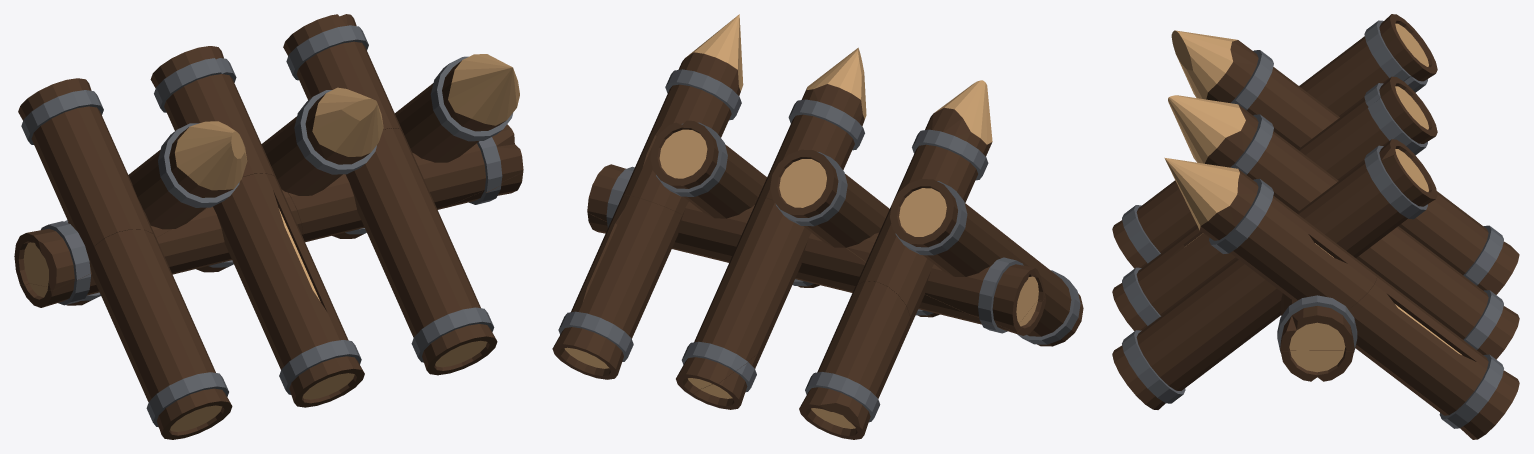
The model's file is Barricade crashed.fbx.
3 renders of one model, left to right at view 1: azimuth 30°, elevation 25°; view 2: azimuth 150°, elevation 25°; view 3: azimuth 270°, elevation 25°, orthographic. The views are drawn at different scales.
Visible parts, largest first — view 1: Barricade 1.007_cell.001, Barricade 1.006_cell.001, Barricade 1.003_cell.001, Barricade 1.003_cell, Barricade 1.002_cell.001, Barricade 1.004_cell, Barricade 1.005_cell.001, Barricade 1.001_cell.001, Barricade 1.006_cell, Barricade 1.007_cell, Barricade 1.001_cell.002, Barricade 1.001_cell (+1 smaller); view 2: Barricade 1.002_cell, Barricade 1.004_cell.002, Barricade 1.005_cell, Barricade 1.005_cell.001, Barricade 1.002_cell.001, Barricade 1.003_cell, Barricade 1.006_cell, Barricade 1.007_cell, Barricade 1.004_cell, Barricade 1.001_cell, Barricade 1.001_cell.001, Barricade 1.001_cell.002 (+2 smaller); view 3: Barricade 1.002_cell.001, Barricade 1.002_cell, Barricade 1.007_cell.001, Barricade 1.005_cell.001, Barricade 1.004_cell, Barricade 1.007_cell, Barricade 1.004_cell.002, Barricade 1.006_cell, Barricade 1.003_cell, Barricade 1.006_cell.001, Barricade 1.005_cell, Barricade 1.003_cell.001 (+2 smaller).
Part boxes in pixels (x1=…): Barricade 1.007_cell.001: x1=345, y1=128, x2=497, y2=375; Barricade 1.006_cell.001: x1=213, y1=173, x2=364, y2=407; Barricade 1.003_cell.001: x1=88, y1=229, x2=232, y2=439; Barricade 1.003_cell: x1=18, y1=78, x2=156, y2=254; Barricade 1.002_cell.001: x1=395, y1=54, x2=519, y2=162; Barricade 1.004_cell: x1=262, y1=87, x2=383, y2=195; Barricade 1.005_cell.001: x1=128, y1=121, x2=247, y2=229; Barricade 1.001_cell.001: x1=288, y1=124, x2=523, y2=242; Barricade 1.006_cell: x1=150, y1=46, x2=277, y2=179; Barricade 1.007_cell: x1=283, y1=14, x2=402, y2=131; Barricade 1.001_cell.002: x1=20, y1=190, x2=302, y2=307; Barricade 1.001_cell: x1=14, y1=207, x2=207, y2=290; Barricade 1.002_cell: x1=552, y1=195, x2=682, y2=379; Barricade 1.004_cell.002: x1=676, y1=197, x2=811, y2=395; Barricade 1.005_cell: x1=799, y1=281, x2=910, y2=439; Barricade 1.005_cell.001: x1=853, y1=80, x2=992, y2=326; Barricade 1.002_cell.001: x1=623, y1=14, x2=743, y2=214; Barricade 1.003_cell: x1=890, y1=179, x2=1011, y2=276; Barricade 1.006_cell: x1=770, y1=149, x2=883, y2=247; Barricade 1.007_cell: x1=650, y1=120, x2=759, y2=218; Barricade 1.004_cell: x1=757, y1=47, x2=866, y2=199; Barricade 1.001_cell: x1=846, y1=232, x2=1045, y2=332; Barricade 1.001_cell.001: x1=587, y1=164, x2=754, y2=262; Barricade 1.001_cell.002: x1=795, y1=232, x2=1045, y2=335; Barricade 1.002_cell.001: x1=1164, y1=157, x2=1377, y2=309; Barricade 1.002_cell: x1=1348, y1=273, x2=1519, y2=439; Barricade 1.007_cell.001: x1=1112, y1=258, x2=1282, y2=409; Barricade 1.005_cell.001: x1=1171, y1=30, x2=1339, y2=149; Barricade 1.004_cell: x1=1168, y1=95, x2=1338, y2=212; Barricade 1.007_cell: x1=1297, y1=139, x2=1437, y2=257; Barricade 1.004_cell.002: x1=1356, y1=226, x2=1519, y2=359; Barricade 1.006_cell: x1=1298, y1=76, x2=1437, y2=180; Barricade 1.003_cell: x1=1299, y1=14, x2=1437, y2=117; Barricade 1.006_cell.001: x1=1112, y1=226, x2=1236, y2=330; Barricade 1.005_cell: x1=1398, y1=191, x2=1519, y2=294; Barricade 1.003_cell.001: x1=1112, y1=180, x2=1197, y2=268.
Size of the model in its own units: 4.66 by 2.73 by 3.61.
